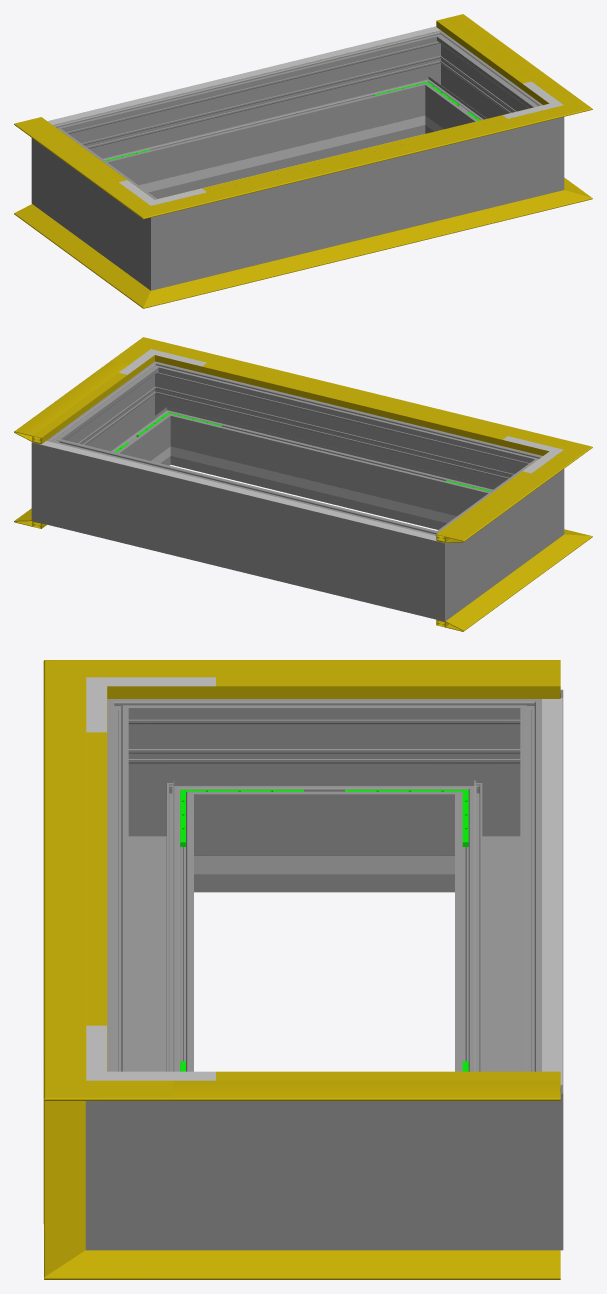
3 renders of one model, top to bottom at view 1: azimuth 30°, elevation 25°; view 2: azimuth 150°, elevation 25°; view 3: azimuth 270°, elevation 25°, orthographic. The views are drawn at different scales.
Parts seen in each view (by area): view 1: 3DGeom-277, 3DGeom-299, 3DGeom-271, 3DGeom-28, 3DGeom-291, 3DGeom-285, 3DGeom-141, 3DGeom-269, 3DGeom-298, 3DGeom-279, 3DGeom-145, 3DGeom-38 (+13 smaller); view 2: 3DGeom-299, 3DGeom-277, 3DGeom-279, 3DGeom-141, 3DGeom-285, 3DGeom-291, 3DGeom-298, 3DGeom-269, 3DGeom-271, 3DGeom-145, 3DGeom-38, 3DGeom-221 (+11 smaller); view 3: 3DGeom-269, 3DGeom-298, 3DGeom-277, 3DGeom-299, 3DGeom-285, 3DGeom-291, 3DGeom-279, 3DGeom-141, 3DGeom-271, 3DGeom-147, 3DGeom-30, 3DGeom-145 (+12 smaller).
Boxes of the visible parts, bbox=[...] form: 3DGeom-277: bbox=[93, 42, 415, 198]; 3DGeom-299: bbox=[207, 130, 507, 276]; 3DGeom-271: bbox=[118, 184, 206, 290]; 3DGeom-28: bbox=[189, 199, 536, 294]; 3DGeom-291: bbox=[508, 90, 564, 203]; 3DGeom-285: bbox=[394, 30, 467, 135]; 3DGeom-141: bbox=[189, 112, 536, 205]; 3DGeom-269: bbox=[64, 144, 136, 266]; 3DGeom-298: bbox=[430, 50, 522, 132]; 3DGeom-279: bbox=[31, 115, 114, 226]; 3DGeom-145: bbox=[436, 14, 559, 97]; 3DGeom-38: bbox=[14, 204, 128, 284]; 3DGeom-299: bbox=[180, 373, 502, 529]; 3DGeom-277: bbox=[87, 448, 398, 607]; 3DGeom-279: bbox=[388, 515, 477, 621]; 3DGeom-141: bbox=[183, 350, 535, 450]; 3DGeom-285: bbox=[31, 421, 97, 534]; 3DGeom-291: bbox=[128, 361, 201, 466]; 3DGeom-298: bbox=[73, 381, 165, 464]; 3DGeom-269: bbox=[459, 475, 531, 597]; 3DGeom-271: bbox=[481, 446, 564, 557]; 3DGeom-145: bbox=[14, 360, 138, 444]; 3DGeom-38: bbox=[436, 550, 560, 631]; 3DGeom-221: bbox=[40, 441, 436, 541]; 3DGeom-269: bbox=[215, 699, 433, 892]; 3DGeom-298: bbox=[215, 1101, 433, 1250]; 3DGeom-277: bbox=[455, 744, 563, 1071]; 3DGeom-299: bbox=[107, 744, 193, 1071]; 3DGeom-285: bbox=[433, 1038, 563, 1250]; 3DGeom-291: bbox=[85, 1038, 215, 1250]; 3DGeom-279: bbox=[433, 689, 563, 892]; 3DGeom-141: bbox=[43, 714, 107, 1044]; 3DGeom-271: bbox=[107, 699, 215, 892]; 3DGeom-147: bbox=[173, 660, 560, 698]; 3DGeom-30: bbox=[173, 1250, 560, 1279]; 3DGeom-145: bbox=[173, 1080, 560, 1100].
Size of the model in its own units: 1.22 by 0.2357 by 0.6096.
